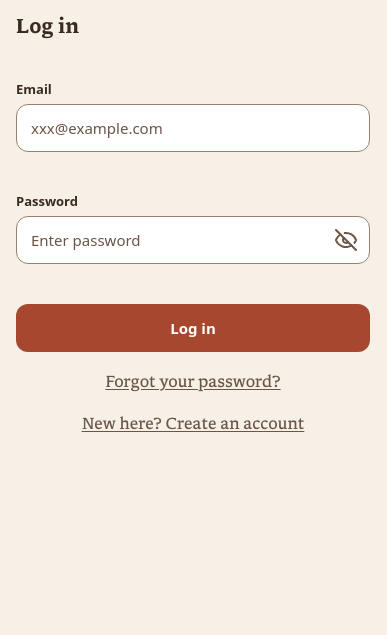
Test: App when signed out › starts on Log in and moves between Log in and Sign up
This screenshot has width=387, height=635.
Expected: the heading "Log in" is shown, [16, 17, 79, 37]
Click the button "New here? Create an account".
click(193, 424)  # box [16, 412, 370, 436]
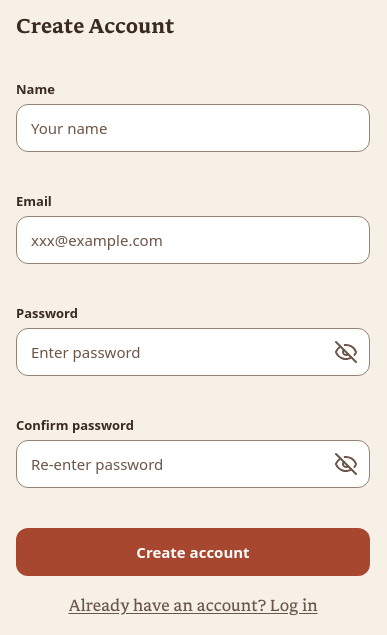
Expected: the heading "Create Account" is shown, [16, 17, 174, 37]
Click the button "Already have an account? Log in".
click(193, 606)  # box [16, 594, 370, 618]
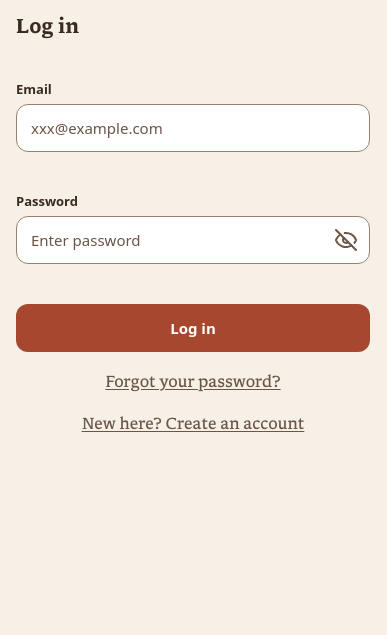
Expected: the heading "Log in" is shown, [16, 17, 79, 37]
